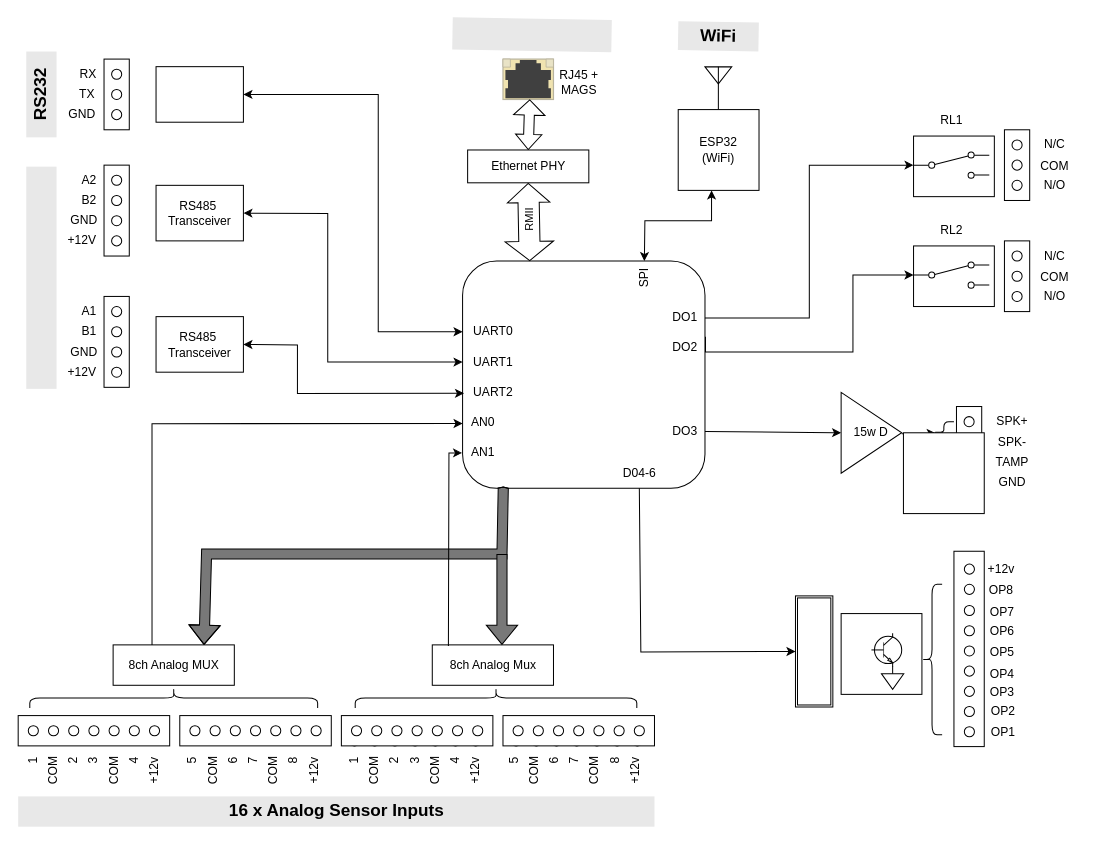
Image size: 1102x844. Some labels were removed from this diagram. Each missing label, with the box of its shape:
10/100 Ethernet: (452, 17, 611, 52)
2 x RS485: (26, 166, 56, 388)
74HC595: (794, 595, 833, 707)
MCU: (462, 260, 705, 488)
RS232 Transceiver: (155, 66, 243, 122)
